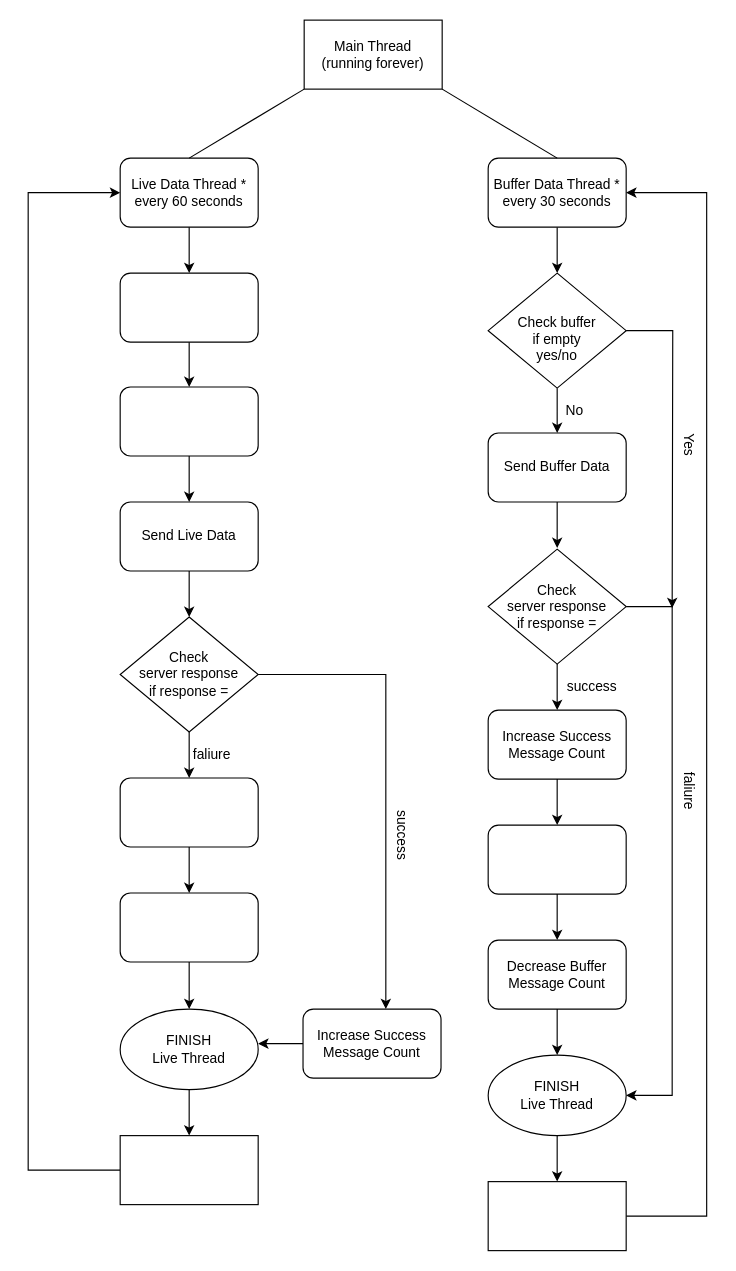
Image size: 736x1271. Some labels were removed from this diagram. The shapes that lost their labels are listed below. From the top down, each one's centre as x and y in pixels, then its label:
pixel 188 307: Stimulate data and calculate new average
pixel 188 421: Update Last average = new average
pixel 188 812: Save Data in Buffer Database
pixel 556 859: Delete That Buffer Data Point
pixel 188 927: Increase Buffer Message Count
pixel 188 1169: Wait 60 Seconds
pixel 556 1215: Wait 30 Seconds
